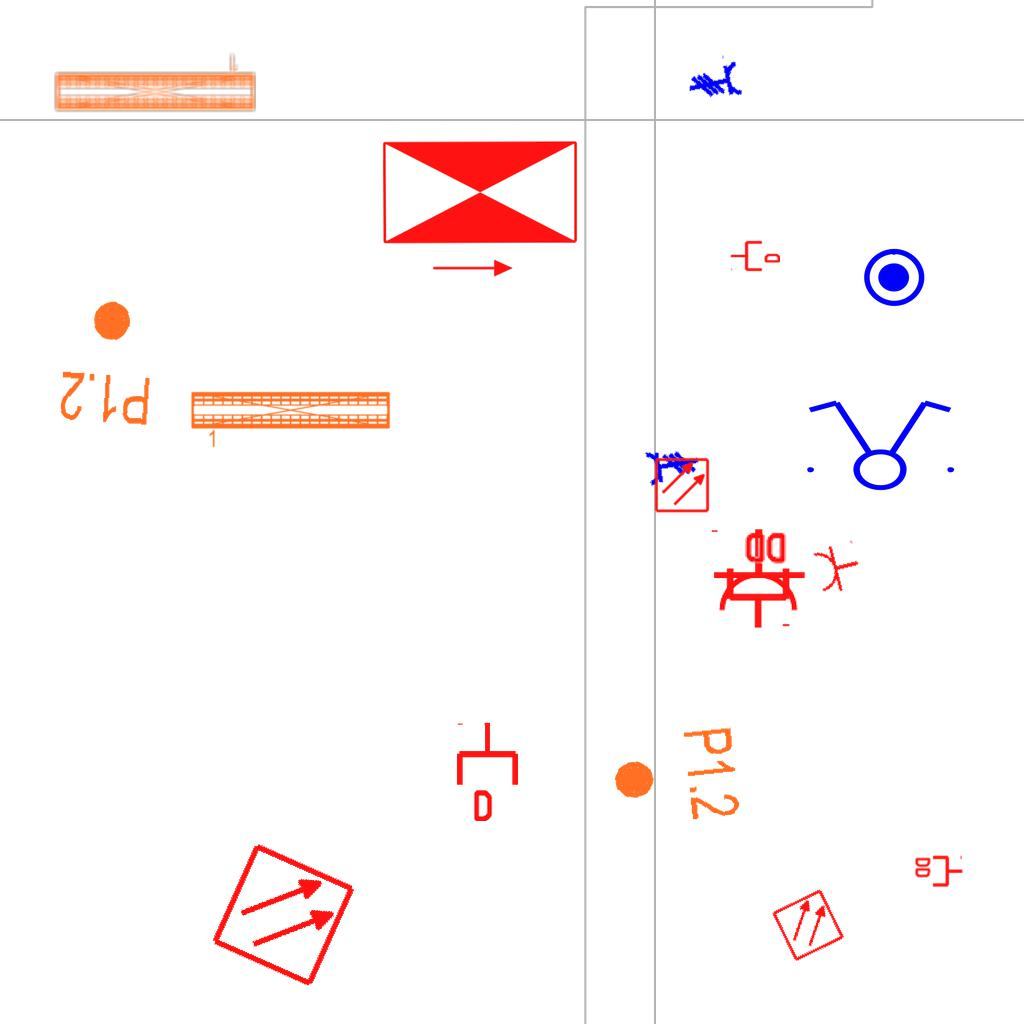Buero_Pendelleuchten_LED: (52, 50, 258, 115), (188, 387, 394, 452)
CEE_Drehstrom_Steckdose_16_32_A: (683, 51, 744, 107), (643, 442, 704, 496)
Datenanschluss_einfach: (453, 721, 522, 821), (730, 239, 780, 273)
Datenanschluss_zweifach: (722, 528, 791, 631), (913, 855, 964, 889)
Downlight_LED_Einbauleuchten_Flur: (606, 724, 745, 830), (56, 294, 159, 430)
Fluchtwegpiktogramm: (376, 135, 584, 282)
RMO_Rauchmelder_optischer: (208, 839, 359, 990), (770, 887, 846, 963), (654, 457, 710, 513)
Schukosteckdose_einfach: (707, 527, 807, 614), (810, 537, 865, 597)
Serienschalter: (795, 396, 963, 492)
Taster: (861, 242, 927, 308)
